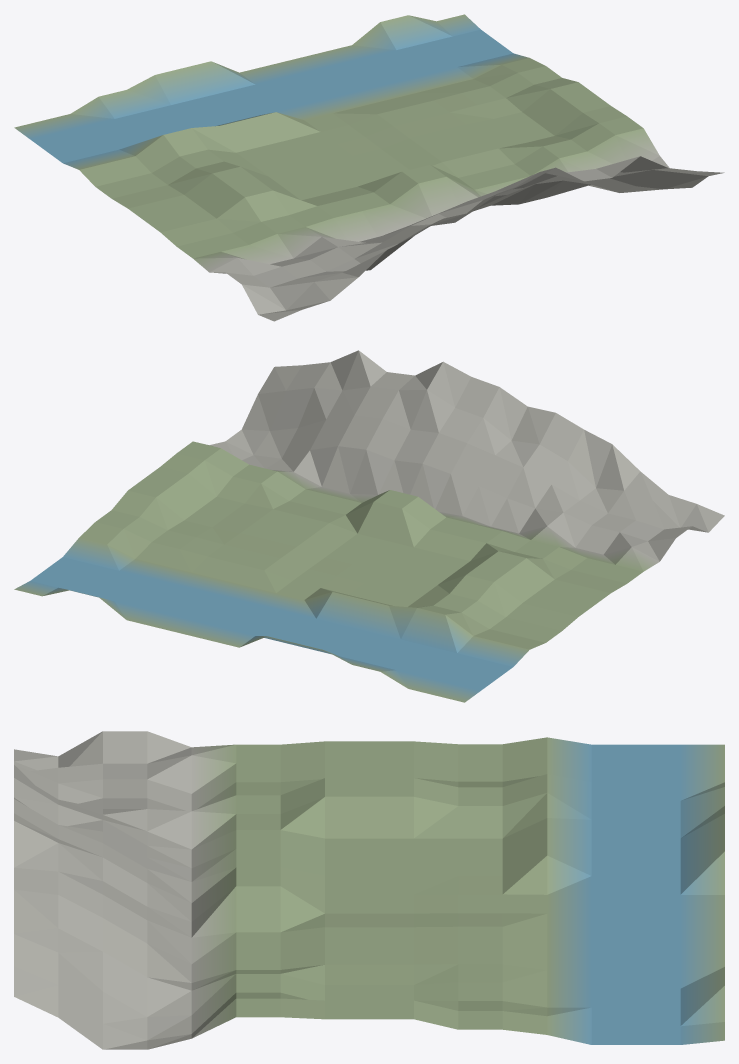
3 views of the same model, one above another, from view 1: azimuth 30°, elevation 25°; view 2: azimuth 150°, elevation 25°; view 3: azimuth 270°, elevation 25° (orthographic). The views are drawn at different scales.
Bounding box in the file's own units: 32 × 6.3 × 32.
